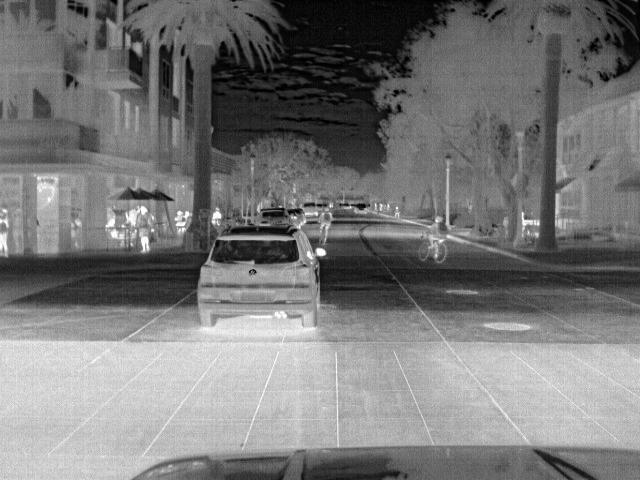car: (196, 226, 328, 327), (257, 206, 292, 232), (289, 210, 304, 229), (301, 204, 319, 216)
person: (428, 213, 447, 257), (135, 205, 152, 254), (318, 205, 335, 243), (1, 208, 13, 258), (102, 207, 117, 227), (211, 206, 224, 227)
